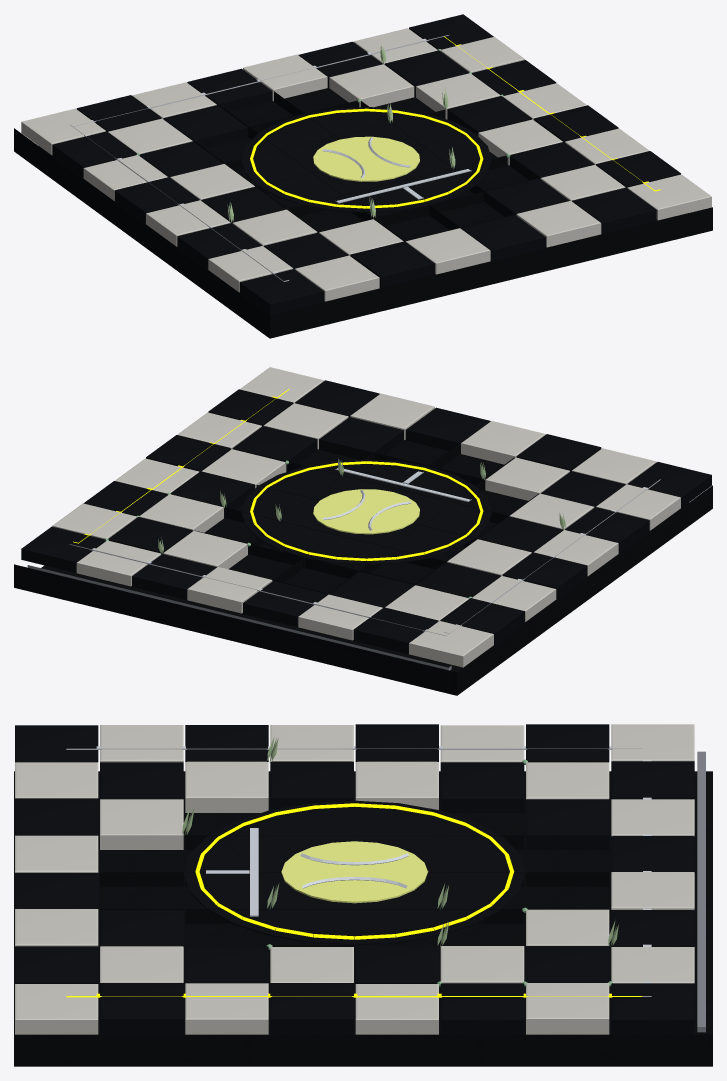
File: tt_terrace_deck.glb
The picture shows the model from 3 angles, top to bottom: view 1: azimuth 30°, elevation 25°; view 2: azimuth 150°, elevation 25°; view 3: azimuth 270°, elevation 25°; orthographic projection. The views are drawn at different scales.
Visible parts, largest first — view 1: Pavers_B, Pavers_A, Deck_Slab, Medallion_Base, Medallion_Surround, Medallion_Ball, Medallion_Ring, Court_Strips_White, Medallion_Service_Lines, Joint_Tufts; view 2: Pavers_B, Pavers_A, Deck_Slab, Medallion_Base, Medallion_Surround, Medallion_Ball, Medallion_Ring, Deck_Drain, Court_Strips_White, Medallion_Service_Lines; view 3: Pavers_B, Pavers_A, Deck_Slab, Medallion_Base, Medallion_Surround, Medallion_Ball, Medallion_Ring, Deck_Drain, Court_Strips_White, Joint_Tufts, Medallion_Service_Lines, Medallion_Seams (+1 smaller).
Part boxes in pixels (left/top/right/bottom): Pavers_B: left=52, top=14, right=680, bottom=314; Pavers_A: left=21, top=28, right=711, bottom=301; Deck_Slab: left=14, top=87, right=712, bottom=338; Medallion_Base: left=241, top=107, right=491, bottom=212; Medallion_Surround: left=194, top=88, right=538, bottom=241; Medallion_Ball: left=313, top=136, right=419, bottom=181; Medallion_Ring: left=250, top=108, right=483, bottom=208; Court_Strips_White: left=70, top=35, right=448, bottom=281; Medallion_Service_Lines: left=335, top=169, right=471, bottom=203; Joint_Tufts: left=227, top=45, right=455, bottom=222; Pavers_B: left=21, top=380, right=711, bottom=653; Pavers_A: left=52, top=367, right=680, bottom=667; Deck_Slab: left=14, top=440, right=712, bottom=695; Medallion_Base: left=241, top=459, right=491, bottom=565; Medallion_Surround: left=194, top=441, right=538, bottom=594; Medallion_Ball: left=313, top=489, right=419, bottom=534; Medallion_Ring: left=250, top=461, right=483, bottom=560; Deck_Drain: left=27, top=565, right=451, bottom=670; Court_Strips_White: left=69, top=479, right=660, bottom=635; Medallion_Service_Lines: left=335, top=468, right=471, bottom=501; Pavers_B: left=15, top=724, right=694, bottom=1034; Pavers_A: left=15, top=724, right=694, bottom=1034; Deck_Slab: left=14, top=771, right=712, bottom=1066; Medallion_Base: left=183, top=800, right=525, bottom=945; Medallion_Surround: left=100, top=813, right=609, bottom=946; Medallion_Ball: left=281, top=841, right=428, bottom=903; Medallion_Ring: left=195, top=803, right=514, bottom=939; Deck_Drain: left=697, top=751, right=705, bottom=1032; Court_Strips_White: left=66, top=746, right=651, bottom=996; Joint_Tufts: left=182, top=736, right=618, bottom=946; Medallion_Service_Lines: left=206, top=828, right=258, bottom=916; Medallion_Seams: left=300, top=853, right=408, bottom=888.
Size of what is drawn, in the model's own units: 4 by 0.4737 by 4.
Materials: 9 (3 with a texture image).
